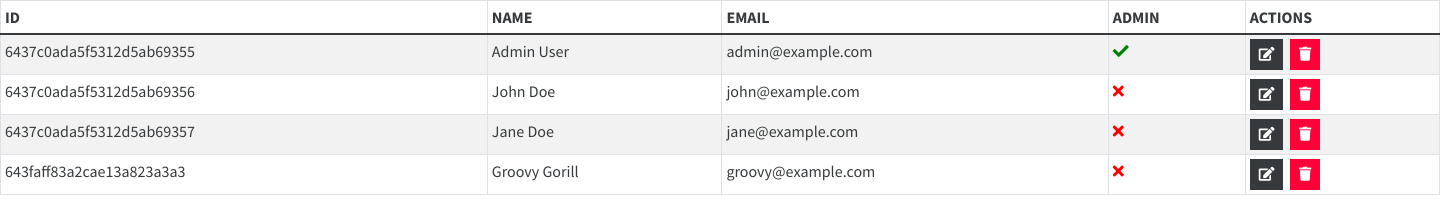
can delete a user
Check: the text "6437c0ada5f5312d5ab69355" is shown, box [0,34,487,74]
What coordinates should you click on to do the following:
click the 2nd button
I would click on:
 (1305, 54)
Its box is [1290,39,1320,70].
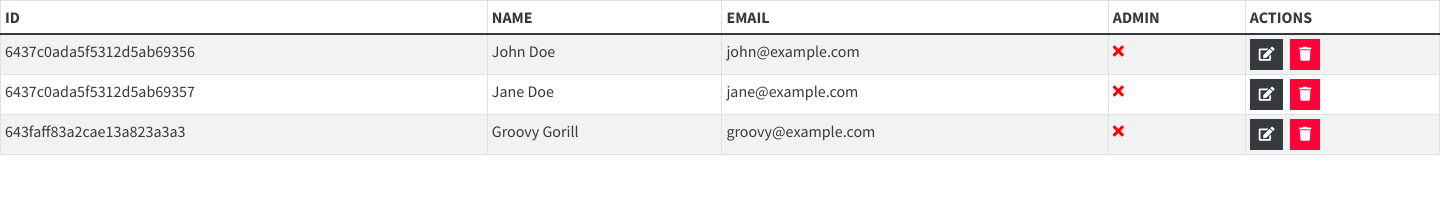
Check: the text "6437c0ada5f5312d5ab69355" is gone
